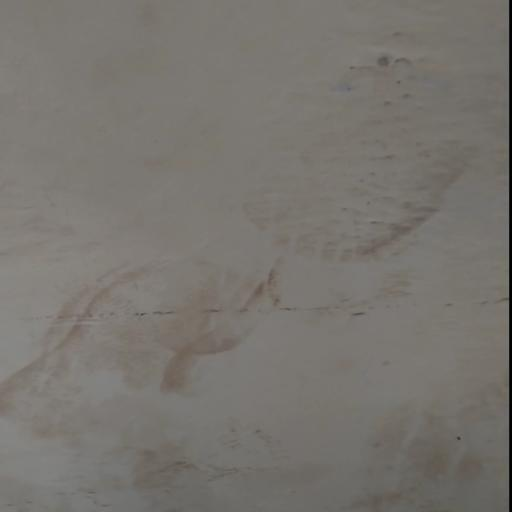stain: (244, 0, 484, 254), (18, 242, 286, 449)
